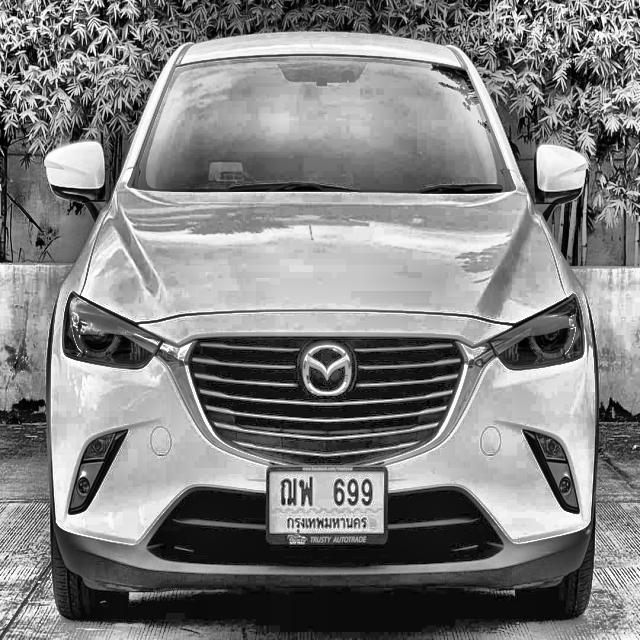license-plate: (264, 461, 390, 549)
